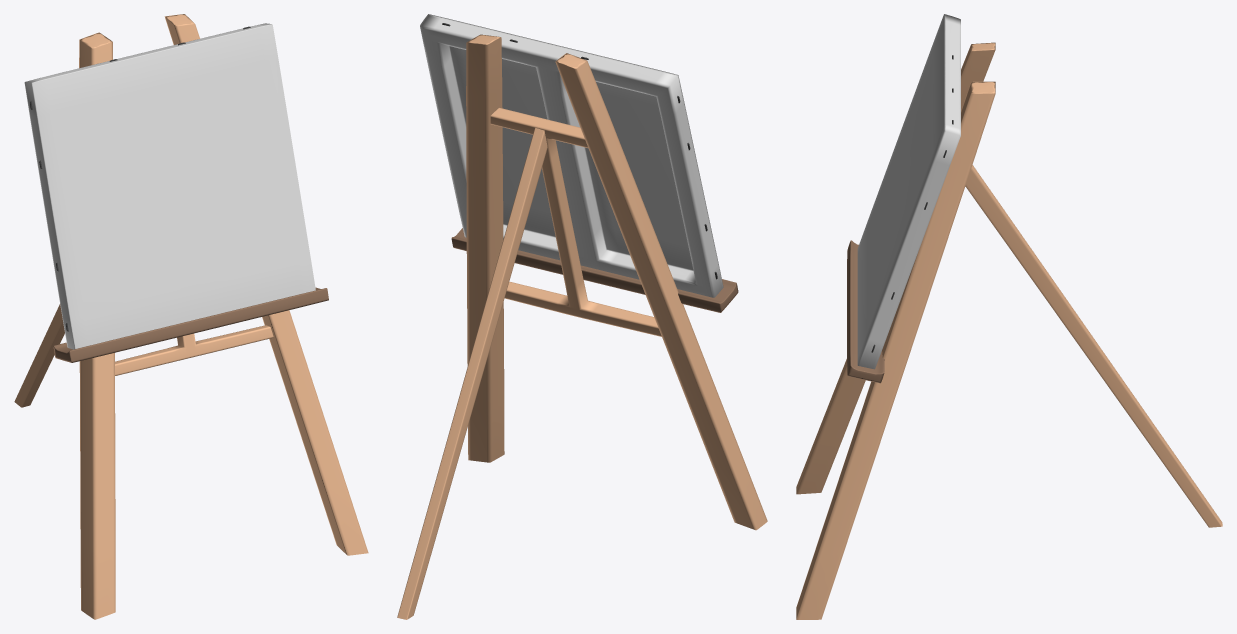
The model's file is Easel.fbx.
3 renders of one model, left to right at view 1: azimuth 30°, elevation 25°; view 2: azimuth 150°, elevation 25°; view 3: azimuth 270°, elevation 25°, orthographic. The views are drawn at different scales.
Visible parts, largest first — view 1: polySurface52, polySurface50, polySurface71, polySurface69, polySurface70, polySurface51; view 2: polySurface52, polySurface50, polySurface71, polySurface51, polySurface70, polySurface69; view 3: polySurface52, polySurface71, polySurface51, polySurface50, polySurface69.
Boxes of the visible parts, x1,y1,x2,y2 form: polySurface52: [24, 23, 315, 349]; polySurface50: [79, 32, 115, 619]; polySurface71: [164, 14, 368, 555]; polySurface69: [53, 287, 328, 362]; polySurface70: [115, 325, 273, 375]; polySurface51: [14, 304, 64, 407]; polySurface52: [420, 14, 723, 297]; polySurface50: [555, 53, 767, 530]; polySurface71: [466, 34, 504, 462]; polySurface51: [397, 127, 547, 619]; polySurface70: [490, 108, 661, 336]; polySurface69: [451, 228, 738, 312]; polySurface52: [857, 14, 960, 369]; polySurface71: [796, 81, 995, 619]; polySurface51: [965, 165, 1222, 527]; polySurface50: [796, 42, 995, 494]; polySurface69: [847, 240, 884, 383].
Size of the model in its own units: 11.49 by 19.41 by 15.39.
Materials: 4 (1 with a texture image).
